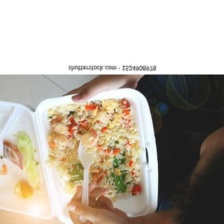foam_box: (0, 85, 164, 223)
